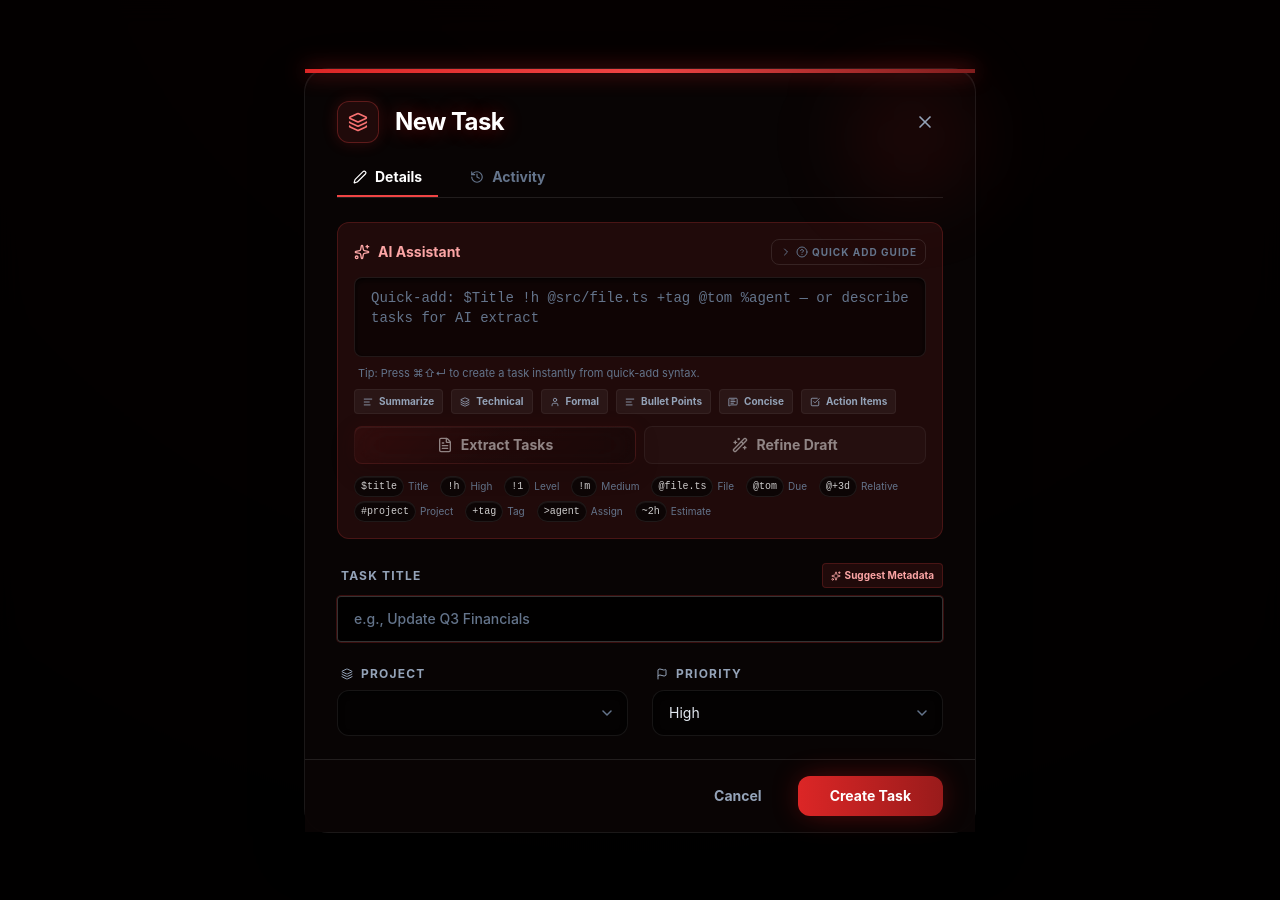
Test: TaskFormModal Features › shows Create Now for plain-text quick add input
Replace the text in the dropdown named "AI assistant and quick-add input" with "Buy milk" at (640, 316), box [354,276,926,356]
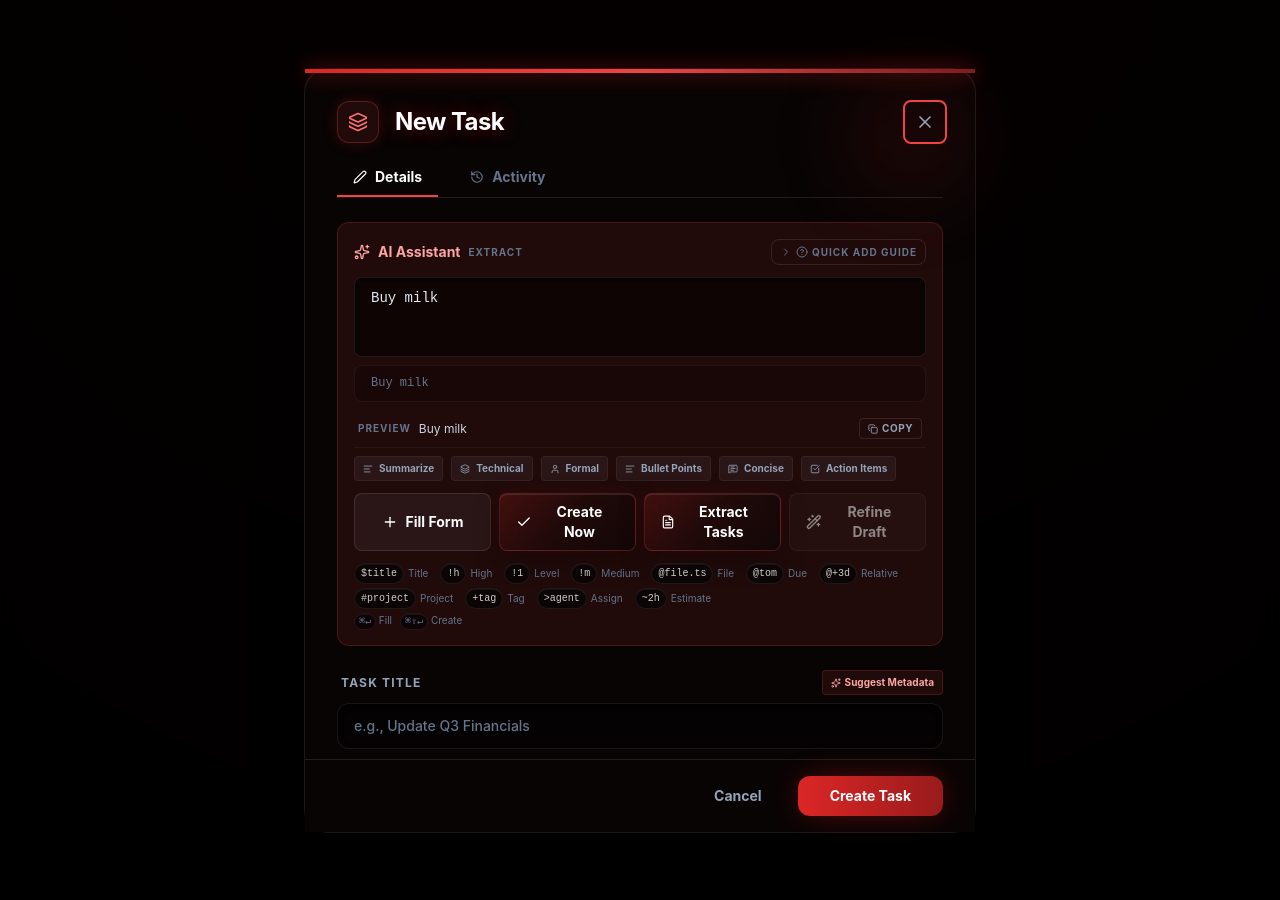
Expected: the button "Create Now" is shown, [499,493,636,551]
